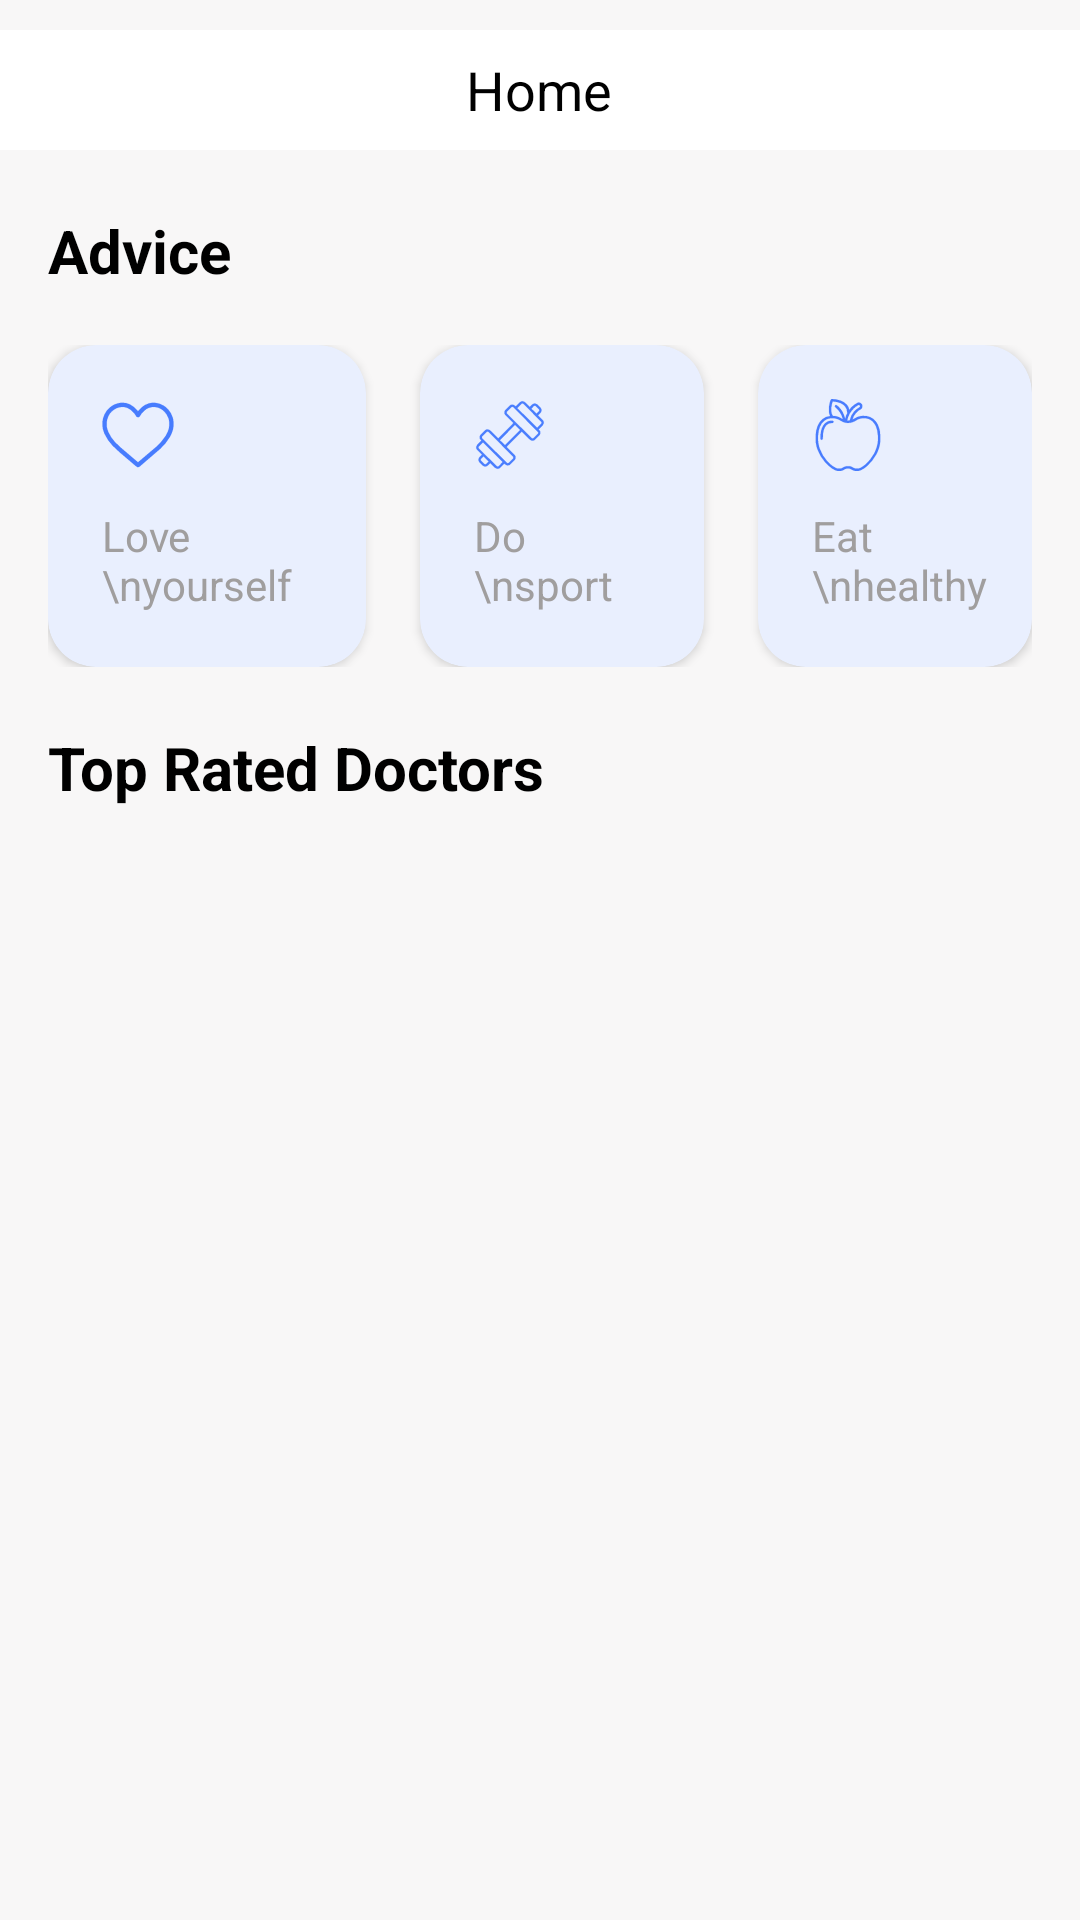

Icon click points for this 1080 x 1920 phone screenshot, format point (x, y):
apple: point (848, 435)
dumbel: point (510, 435)
heart: point (138, 435)
